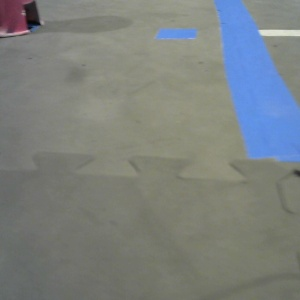middle: (1, 1, 81, 86)
